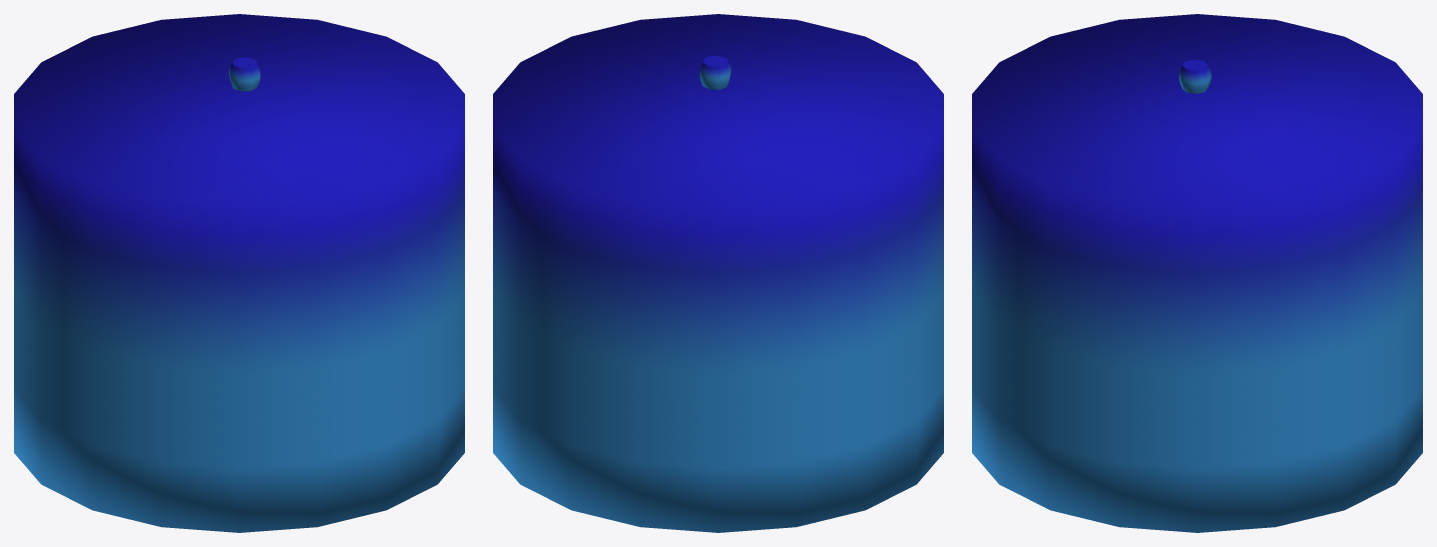
Rendered from MainScene.FBX.
3 renders of one model, left to right at view 1: azimuth 30°, elevation 25°; view 2: azimuth 150°, elevation 25°; view 3: azimuth 270°, elevation 25°, orthographic.
Visible parts, largest first — view 1: SkyBackground, Base_Sky; view 2: SkyBackground, Base_Sky; view 3: SkyBackground, Base_Sky.
Part boxes in pixels (x1,y1,x2,y2): SkyBackground: [14, 14, 464, 532]; Base_Sky: [229, 57, 260, 91]; SkyBackground: [493, 14, 943, 532]; Base_Sky: [699, 56, 731, 89]; SkyBackground: [972, 14, 1422, 532]; Base_Sky: [1179, 59, 1211, 93].
Size of the model in its own units: 3839 by 3781 by 3455.
Materials: 34 (34 with a texture image).
